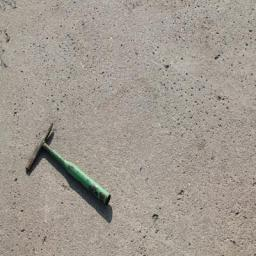FOD: (24, 122, 116, 209)
